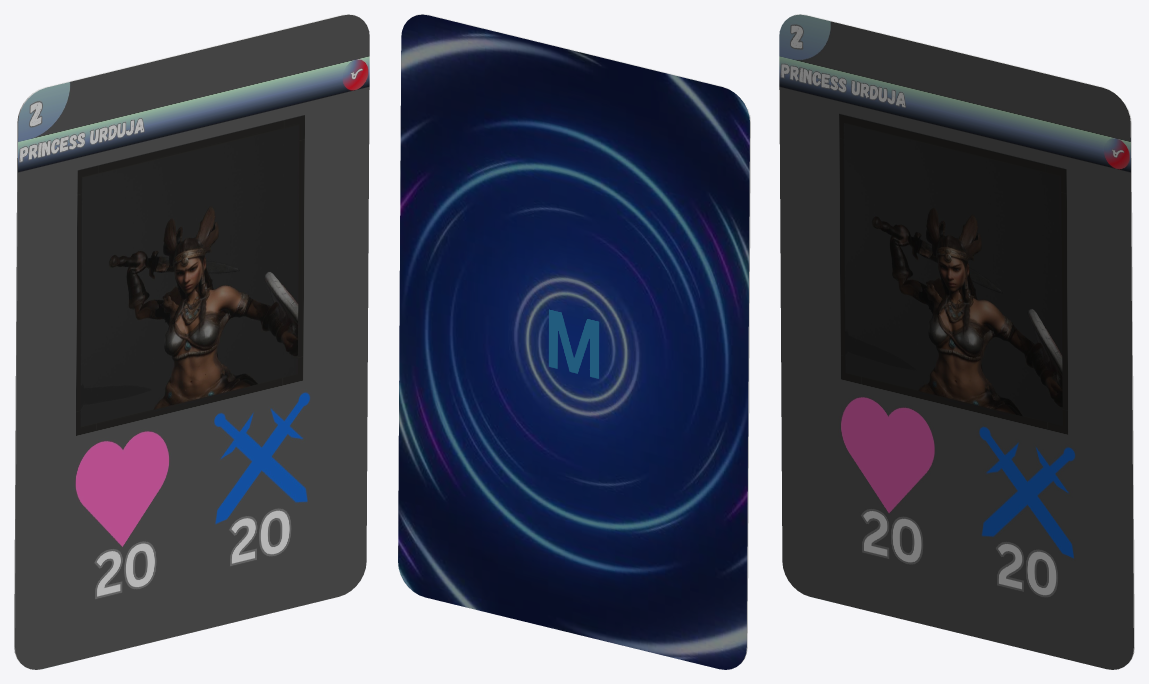
Rendered from Princess Urduja.glb.
3 renders of one model, left to right at view 1: azimuth 30°, elevation 25°; view 2: azimuth 150°, elevation 25°; view 3: azimuth 330°, elevation 25°, orthographic.
Parts seen in each view (by area): view 1: Card; view 2: Card; view 3: Card.
Part boxes in pixels (x1,y1,x2,y2): Card: (14,14,369,669); Card: (398,14,750,669); Card: (779,14,1134,669).
Bounding box in the file's own units: 0.056 × 0.0889 × 0.00122.
Materials: 3 (2 with a texture image).
